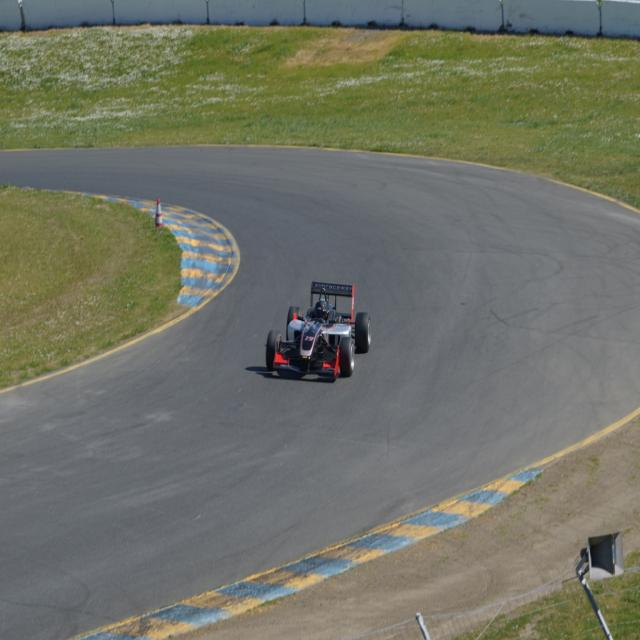other: (264, 281, 370, 379)
